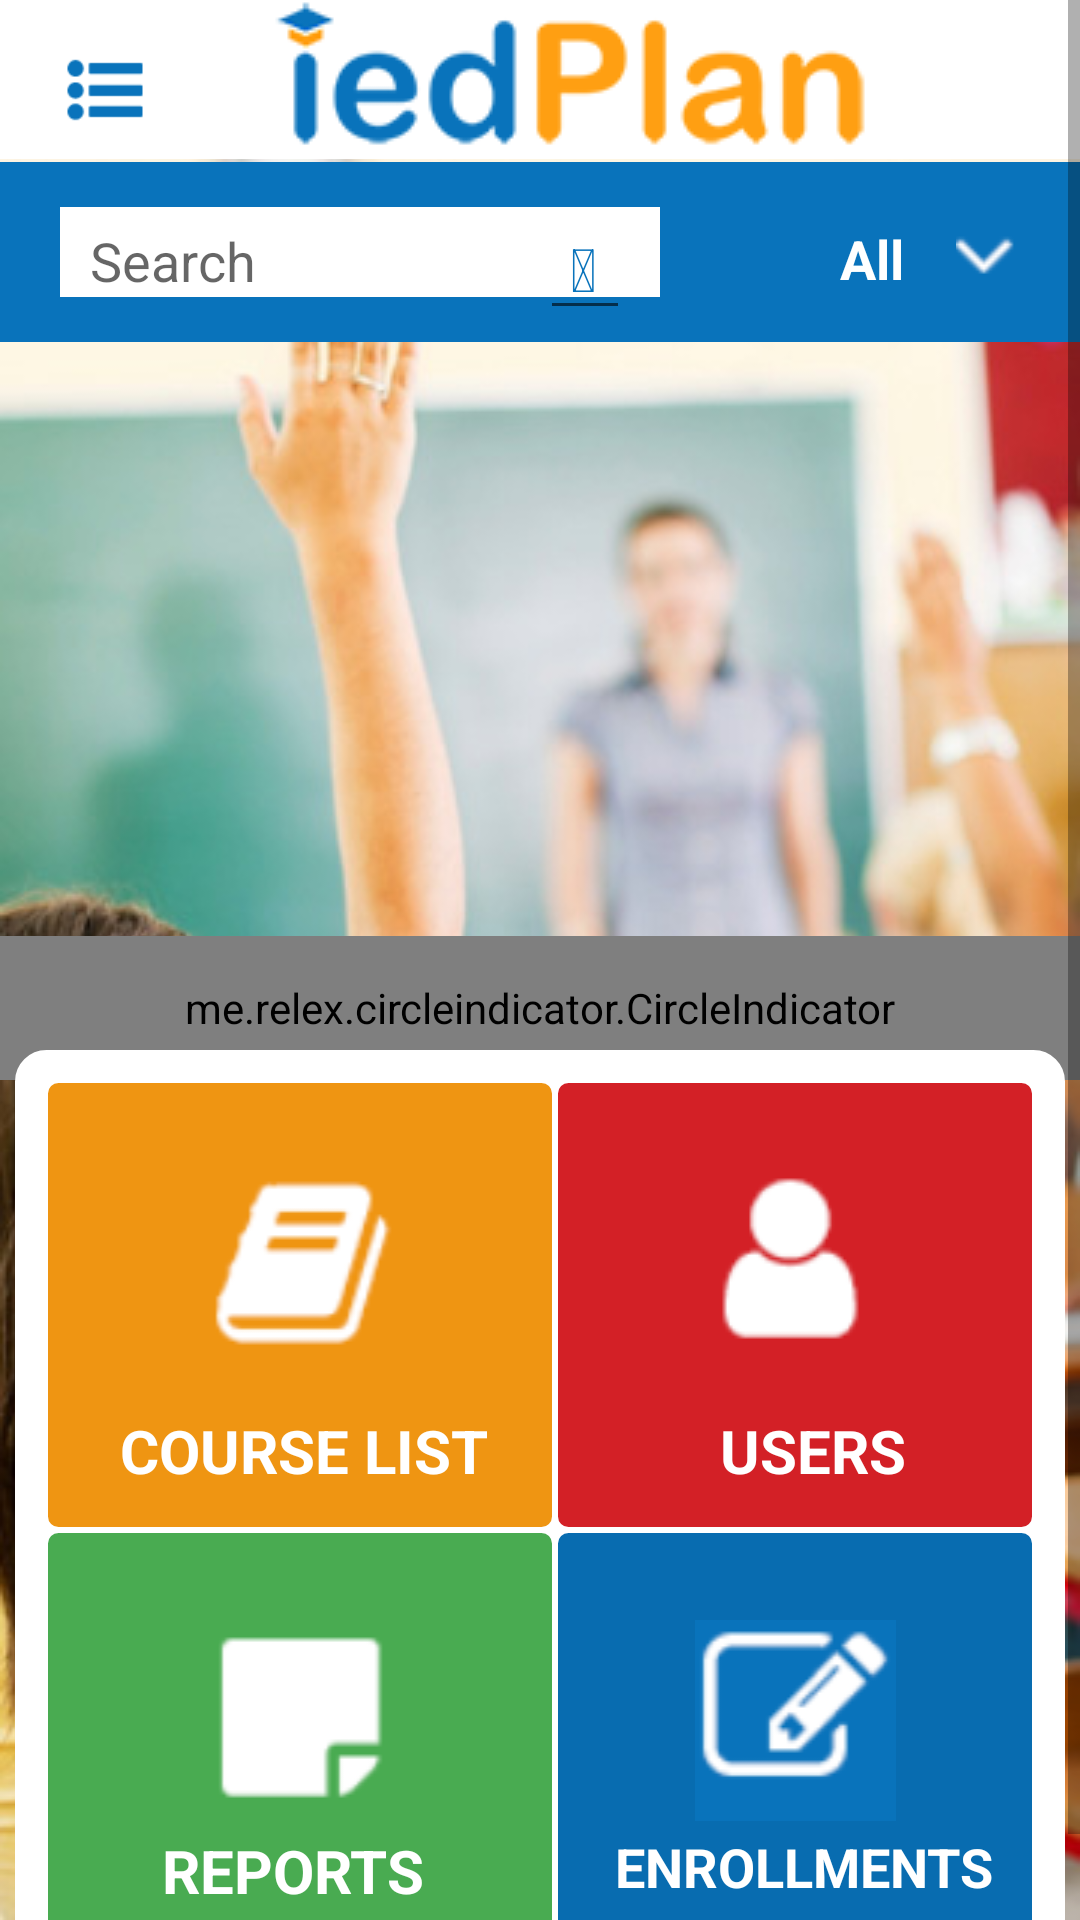

Point at icon controls on the screen. Image size 1080 x 1920, points as (x=x, y=y).
downarrow: (x=984, y=256)
